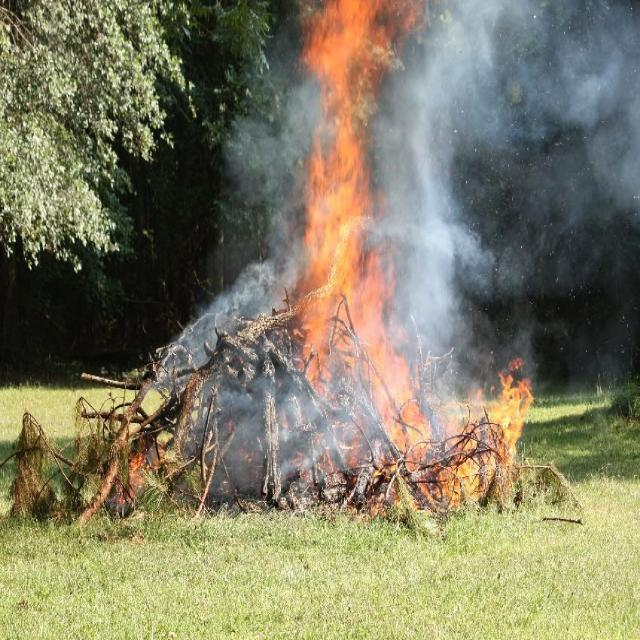Fire: (269, 0, 416, 456), (425, 372, 539, 526)
Smoke: (377, 0, 628, 351)
